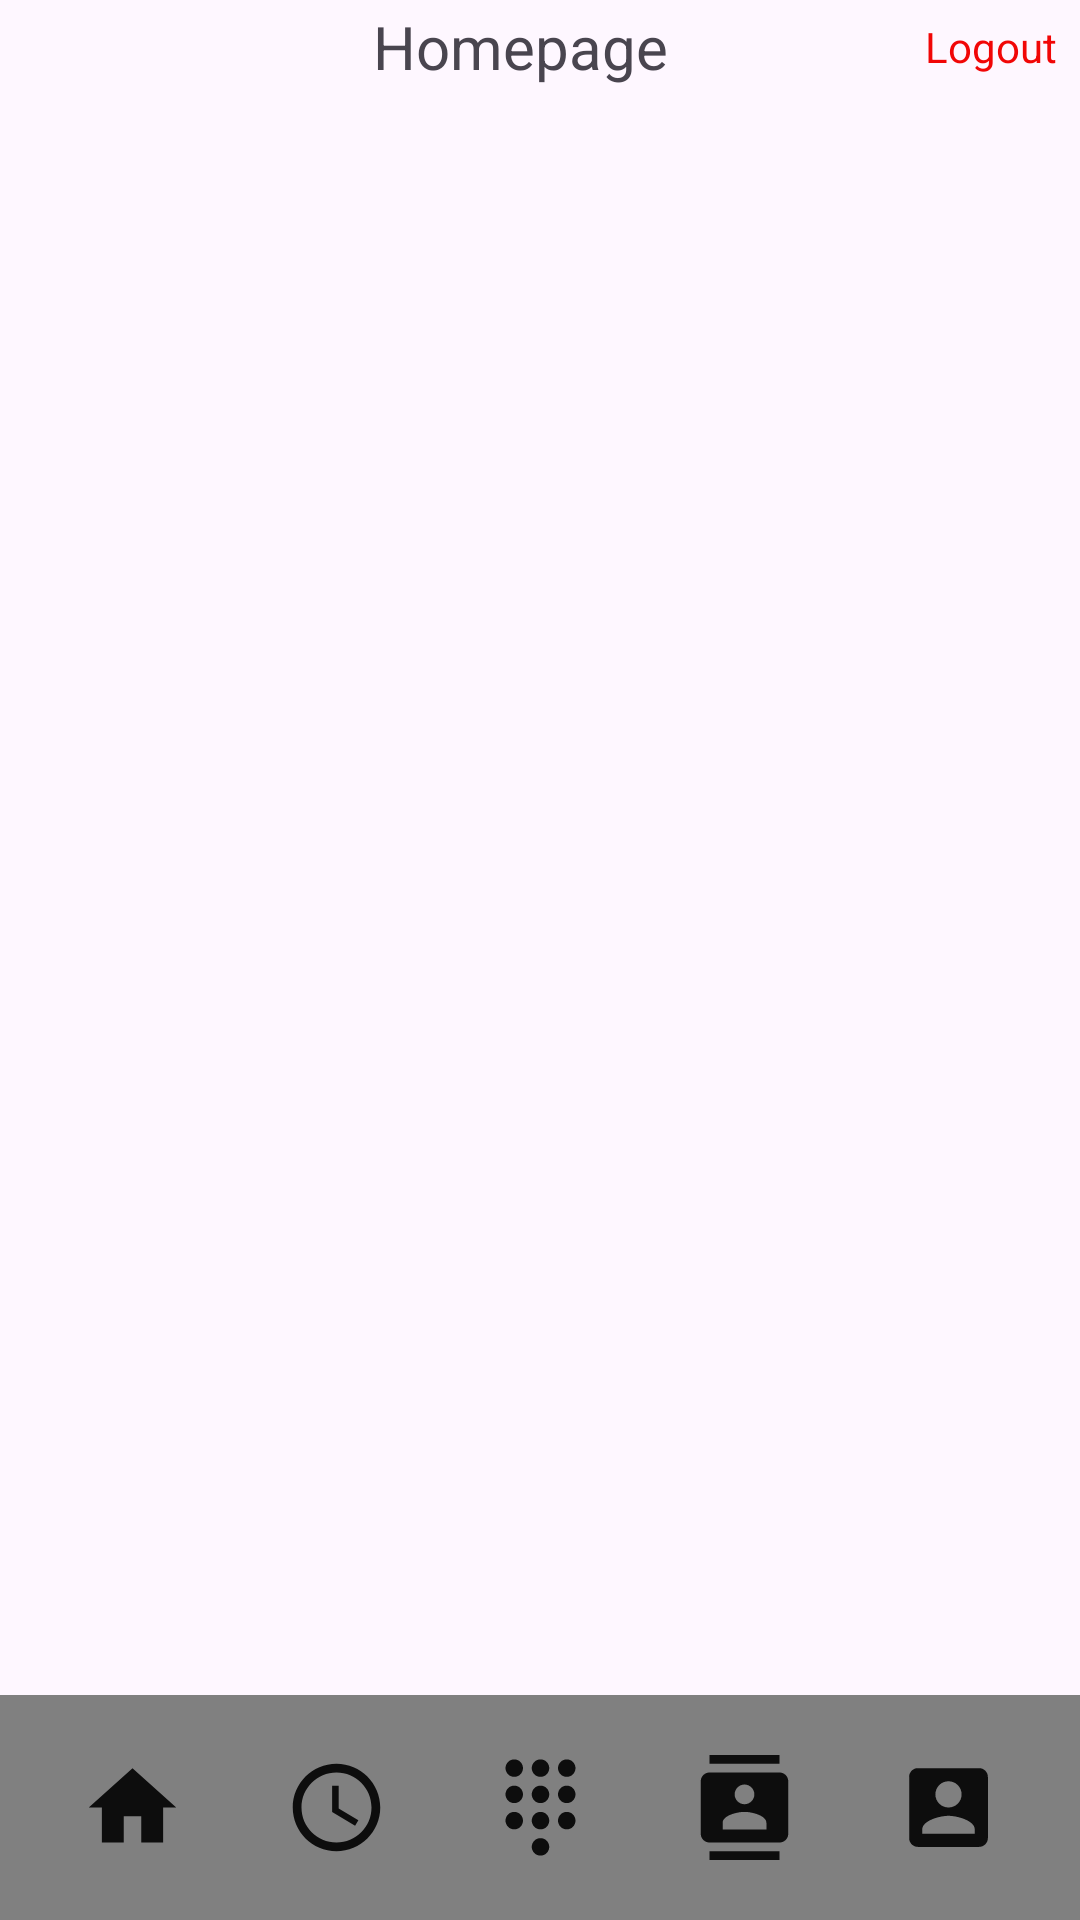

Where icons sit on this 1080 × 1920 app screen, as box(x1, y1, x2, y2):
Contact: box(700, 1755, 789, 1860)
Dialpad: box(505, 1759, 576, 1856)
Home: box(89, 1768, 176, 1843)
Profile: box(909, 1768, 988, 1847)
Recent: box(292, 1763, 381, 1852)
